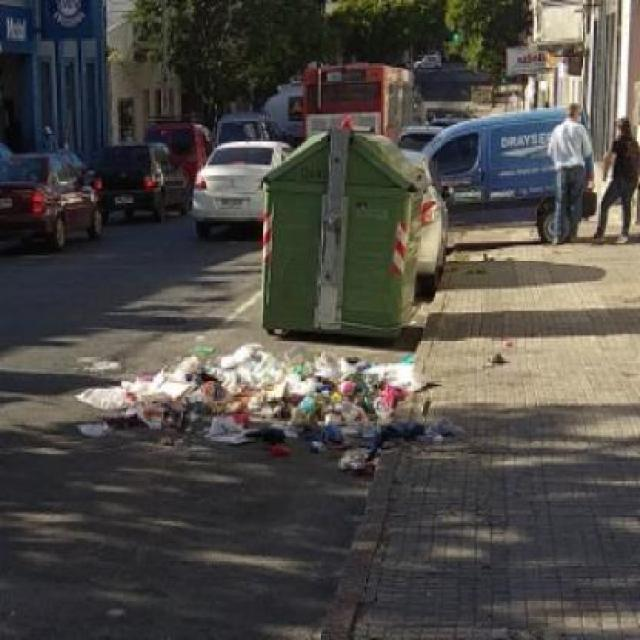garbage: (71, 363, 437, 446), (191, 345, 424, 366)
